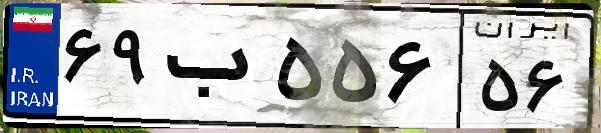5: (270, 28, 330, 110), (330, 28, 385, 110), (475, 38, 525, 113)
6: (385, 28, 445, 110), (57, 26, 110, 100), (525, 38, 570, 115)
9: (110, 28, 158, 98)
ب: (158, 20, 270, 120)
